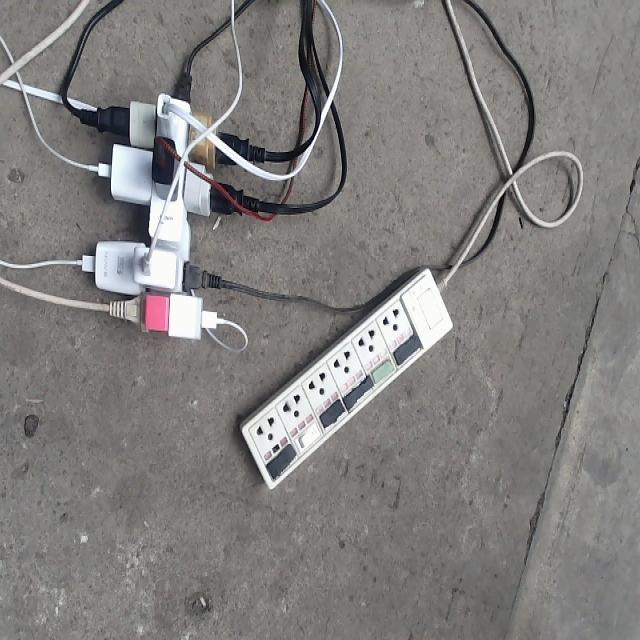-: (84, 67, 237, 340)
